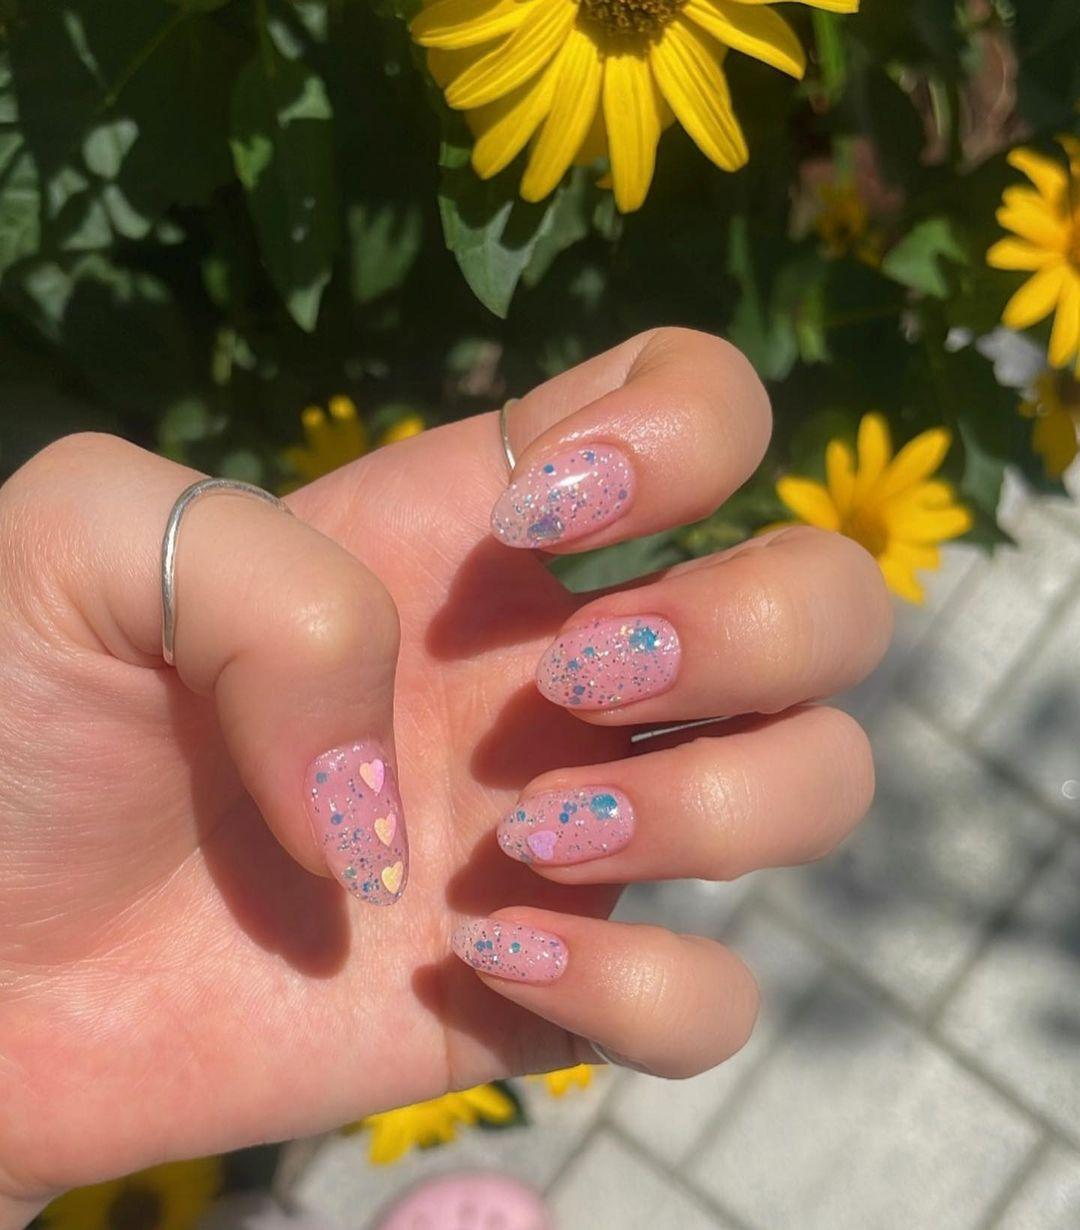nail: (302, 737, 409, 907), (488, 434, 637, 552), (533, 611, 682, 712), (496, 782, 635, 868), (450, 916, 569, 984)
